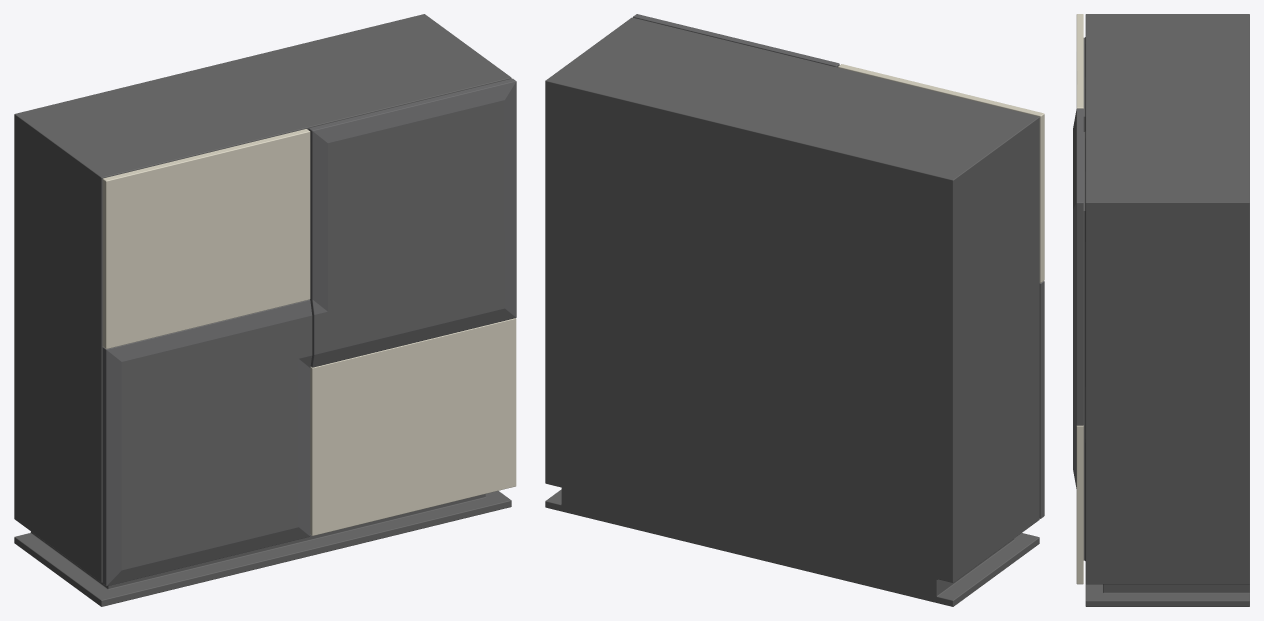
Rendered from closet.fbx.
3 views of the same model, side by side, from view 1: azimuth 30°, elevation 25°; view 2: azimuth 150°, elevation 25°; view 3: azimuth 270°, elevation 25° (orthographic). The views are drawn at different scales.
Parts seen in each view (by area): view 1: Modern Closet; view 2: Modern Closet; view 3: Modern Closet.
Part boxes in pixels (x1,y1,x2,y2): Modern Closet: (14,14,516,606); Modern Closet: (545,14,1044,606); Modern Closet: (1073,14,1249,606).
Bounding box in the file's own units: 12500 × 12500 × 4950.
